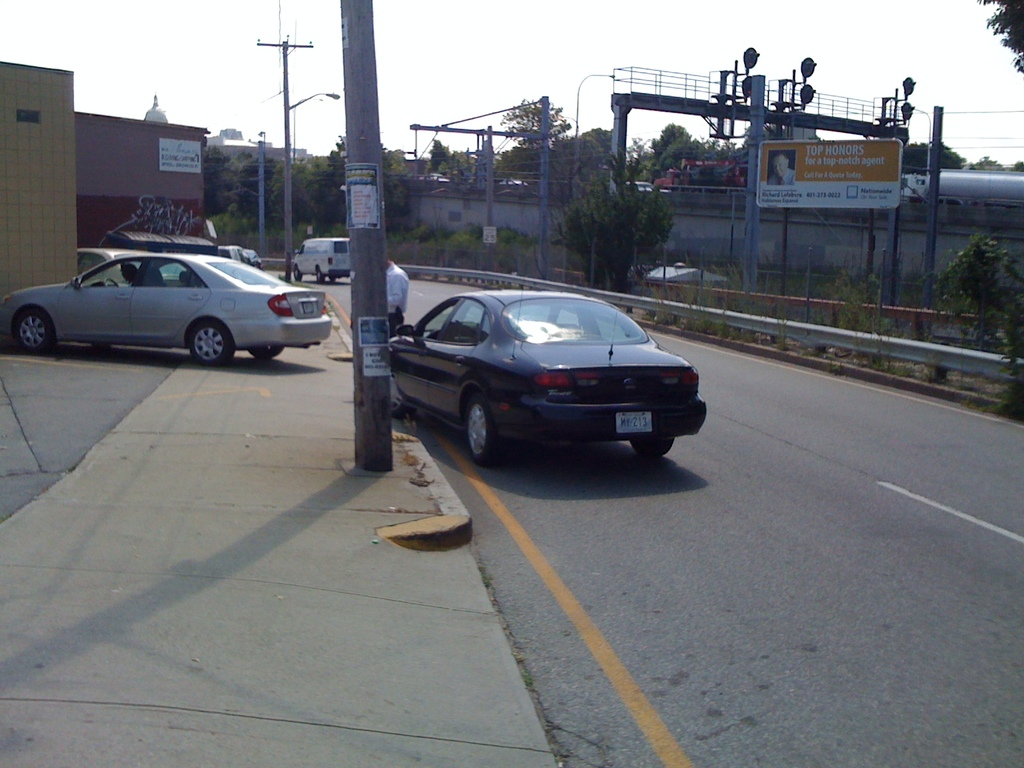Car: (357, 273, 711, 473), (0, 252, 334, 362), (291, 236, 351, 279)
